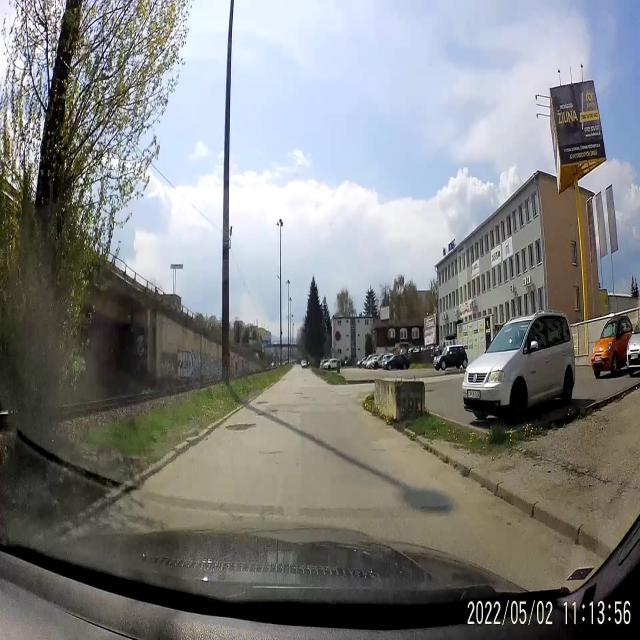Pothole: (224, 415, 256, 434), (256, 406, 280, 424), (256, 393, 270, 407), (291, 407, 302, 418), (294, 388, 306, 398)
